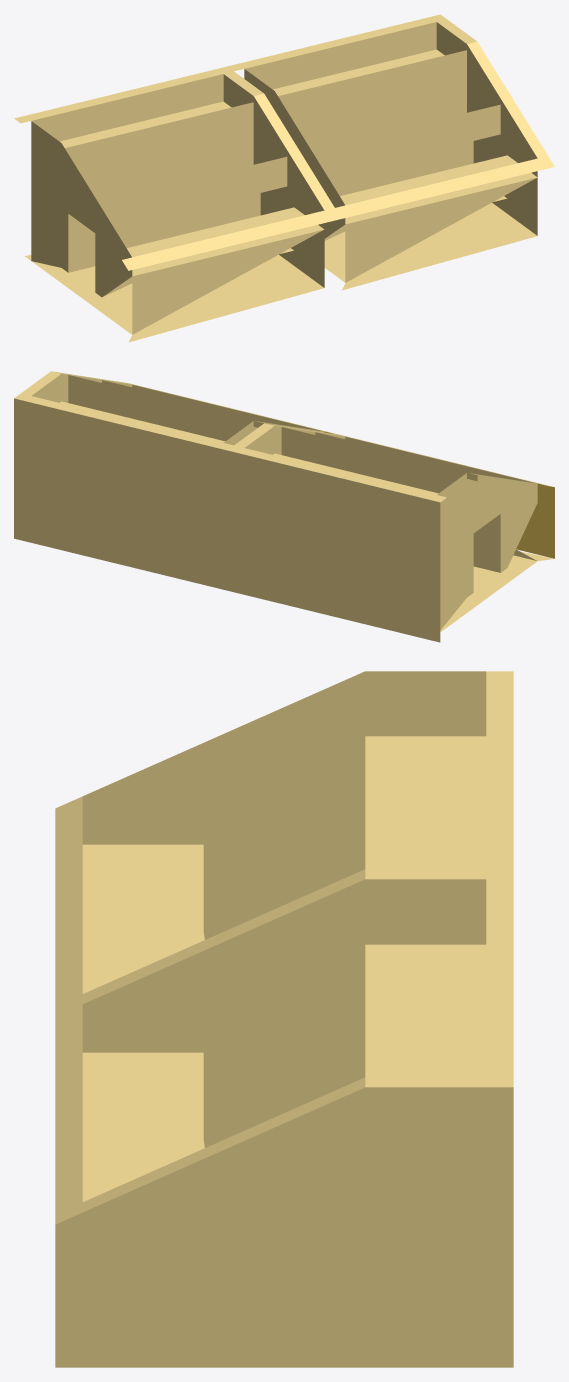
File: Countertop-Shelves-24.glb
The picture shows the model from 3 angles, top to bottom: view 1: azimuth 30°, elevation 25°; view 2: azimuth 150°, elevation 25°; view 3: azimuth 270°, elevation 25°; orthographic projection. The views are drawn at different scales.
Bounding box in the file's own units: 0.6552 × 0.2058 × 0.3048.
